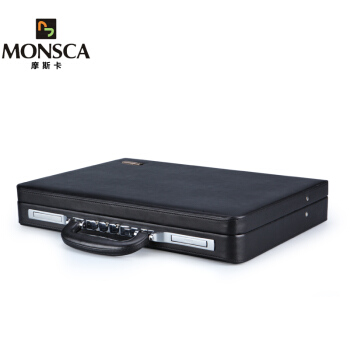shoutibox: (16, 156, 330, 265)
